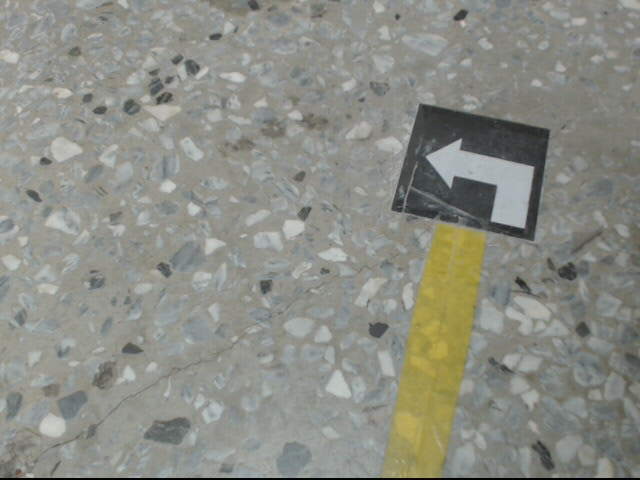left: (390, 104, 549, 242)
